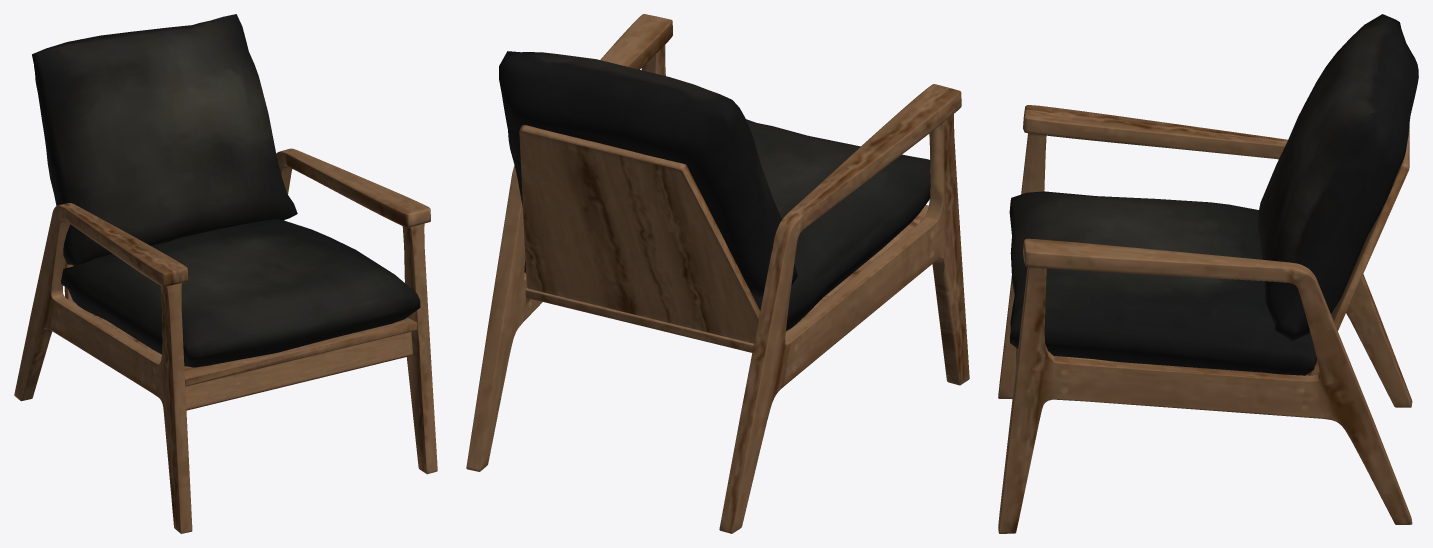
File: poltrona.glb
The picture shows the model from 3 angles, left to right: view 1: azimuth 30°, elevation 25°; view 2: azimuth 150°, elevation 25°; view 3: azimuth 270°, elevation 25°; orthographic projection. The views are drawn at different scales.
Parts seen in each view (by area): view 1: modern_arm_chair_01; view 2: modern_arm_chair_01; view 3: modern_arm_chair_01.
Part boxes in pixels (left/top/right/bottom): modern_arm_chair_01: left=14, top=14, right=437, bottom=533; modern_arm_chair_01: left=466, top=14, right=969, bottom=533; modern_arm_chair_01: left=998, top=14, right=1418, bottom=533.
Bounding box in the file's own units: 0.8203 × 1.02 × 0.9866.
2 materials, 2 textured.
